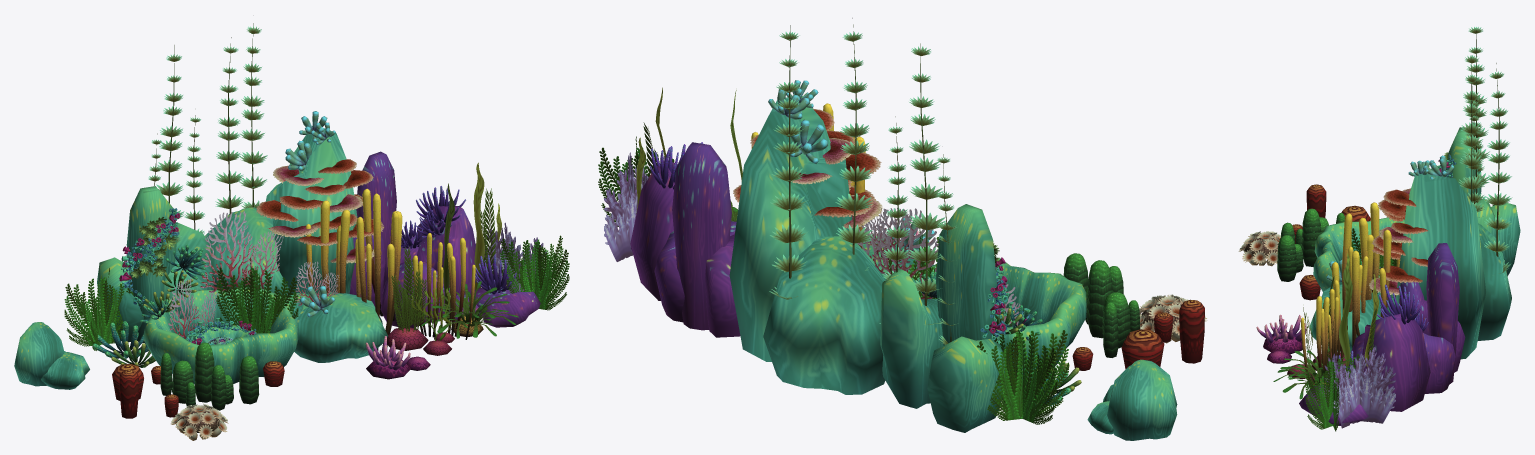
The model's file is CoralSet_18.FBX.
3 views of the same model, side by side, from view 1: azimuth 30°, elevation 25°; view 2: azimuth 150°, elevation 25°; view 3: azimuth 270°, elevation 25° (orthographic). The views are drawn at different scales.
Visible parts, largest first — view 1: Set_18, Set_18_Part404, Set_18_Part01, Set_18_Part11, Set_18_Part94, Set_18_Part107, Set_18_Part102, Set_18_Part44, Set_18_Part99, Set_18_Part405, Set_18_Part70, Set_18_Part60 (+21 smaller); view 2: Set_18, Set_18_Part01, Set_18_Part404, Set_18_Part107, Set_18_Part94, Set_18_Part60, Set_18_Part11, Set_18_Part99, Set_18_Part44, Set_18_Part65, Set_18_Part36, Set_18_Part98 (+5 smaller); view 3: Set_18, Set_18_Part404, Set_18_Part107, Set_18_Part94, Set_18_Part65, Set_18_Part102, Set_18_Part01, Set_18_Part44, Set_18_Part101, Set_18_Part11, Set_18_Part70, Set_18_Part74 (+9 smaller).
Part boxes in pixels (box(x1,y1,x2,y2)): Set_18: box(205, 126, 387, 362); Set_18_Part404: box(349, 151, 540, 327); Set_18_Part01: box(97, 186, 213, 343); Set_18_Part11: box(143, 287, 298, 384); Set_18_Part94: box(112, 342, 284, 418); Set_18_Part107: box(148, 23, 267, 242); Set_18_Part102: box(305, 193, 402, 351); Set_18_Part44: box(256, 159, 384, 263); Set_18_Part99: box(14, 322, 89, 389); Set_18_Part405: box(216, 258, 298, 333); Set_18_Part70: box(499, 235, 569, 310); Set_18_Part60: box(64, 268, 133, 350); Set_18: box(729, 96, 933, 394); Set_18_Part01: box(880, 204, 1009, 432); Set_18_Part404: box(630, 142, 740, 337); Set_18_Part107: box(769, 18, 958, 344); Set_18_Part94: box(1063, 253, 1204, 370); Set_18_Part60: box(976, 329, 1068, 424); Set_18_Part11: box(908, 258, 1086, 374); Set_18_Part99: box(1087, 359, 1177, 440); Set_18_Part44: box(733, 108, 882, 228); Set_18_Part65: box(604, 152, 664, 261); Set_18_Part36: box(857, 208, 938, 299); Set_18_Part98: box(1139, 294, 1207, 343); Set_18: box(1309, 173, 1511, 359); Set_18_Part404: box(1299, 243, 1465, 425); Set_18_Part107: box(1459, 27, 1512, 275); Set_18_Part94: box(1277, 184, 1370, 300); Set_18_Part65: box(1324, 347, 1395, 428); Set_18_Part102: box(1331, 202, 1400, 352); Set_18_Part01: box(1438, 127, 1520, 276); Set_18_Part44: box(1369, 188, 1428, 295); Set_18_Part101: box(1300, 280, 1343, 385); Set_18_Part11: box(1313, 217, 1404, 298); Set_18_Part70: box(1305, 349, 1359, 431); Set_18_Part74: box(1256, 314, 1306, 354).
Size of the model in its own units: 271 by 155 by 137.
